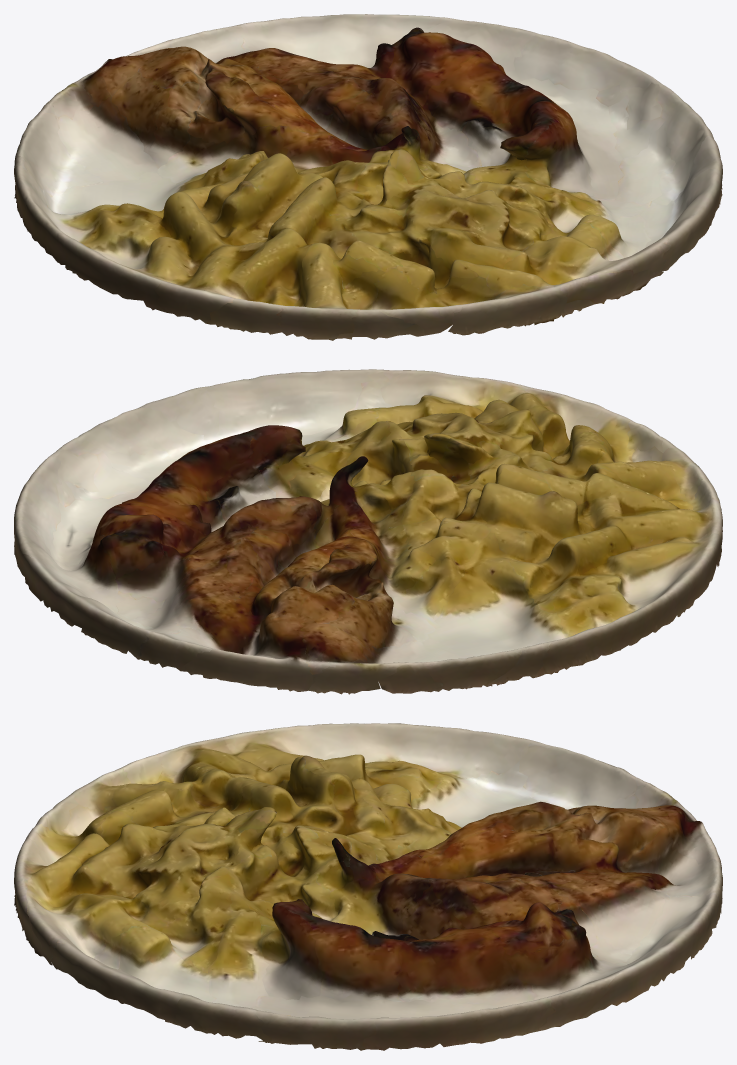
File: burger.glb
3 renders of one model, top to bottom at view 1: azimuth 30°, elevation 25°; view 2: azimuth 150°, elevation 25°; view 3: azimuth 270°, elevation 25°, orthographic.
Visible parts, largest first — view 1: mesh; view 2: mesh; view 3: mesh.
Part boxes in pixels (box(x1,y1,x2,y2)): mesh: box(14, 14, 722, 340); mesh: box(14, 369, 722, 694); mesh: box(14, 723, 722, 1050).
Bounding box in the file's own units: 0.2842 × 0.0439 × 0.2849.
Materials: 1 (1 with a texture image).
